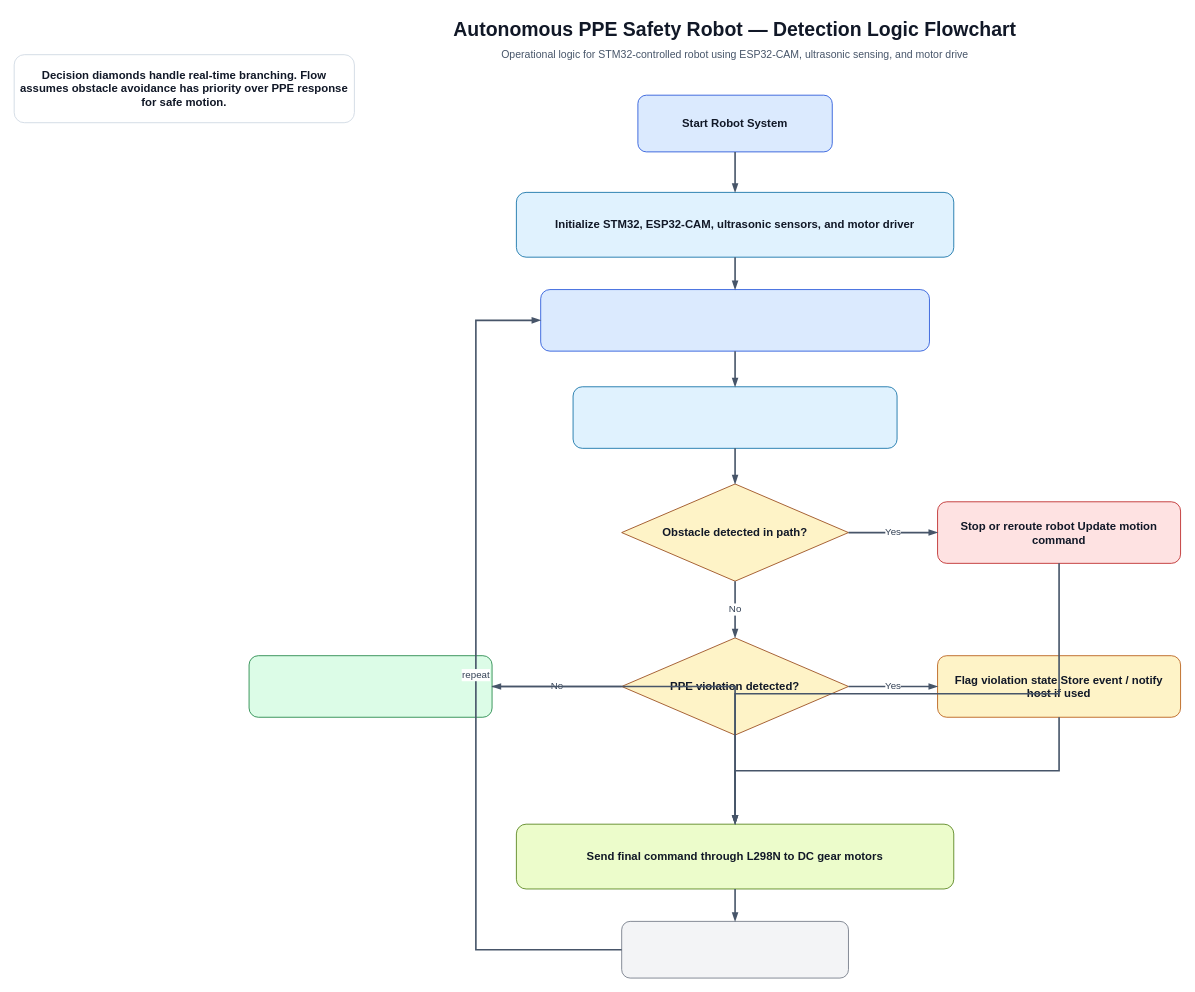
Image size: 1195x992. Some labels were removed from this diagram. Each missing label, with the centre of its shape:
Capture image / run PPE inference on ESP32-CAM: pixel 734 320
Continue patrol / normal movement: pixel 370 686
Loop to next sensing cycle: pixel 734 949
Read ultrasonic sensor distances: pixel 734 417
